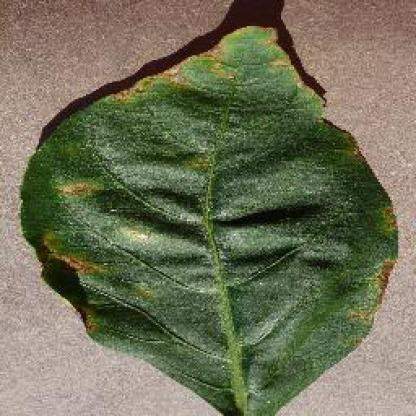bad leaf: (12, 215, 124, 314), (360, 205, 412, 331), (110, 51, 224, 98), (262, 35, 312, 111), (42, 174, 122, 218), (324, 134, 374, 175), (186, 144, 230, 177)
